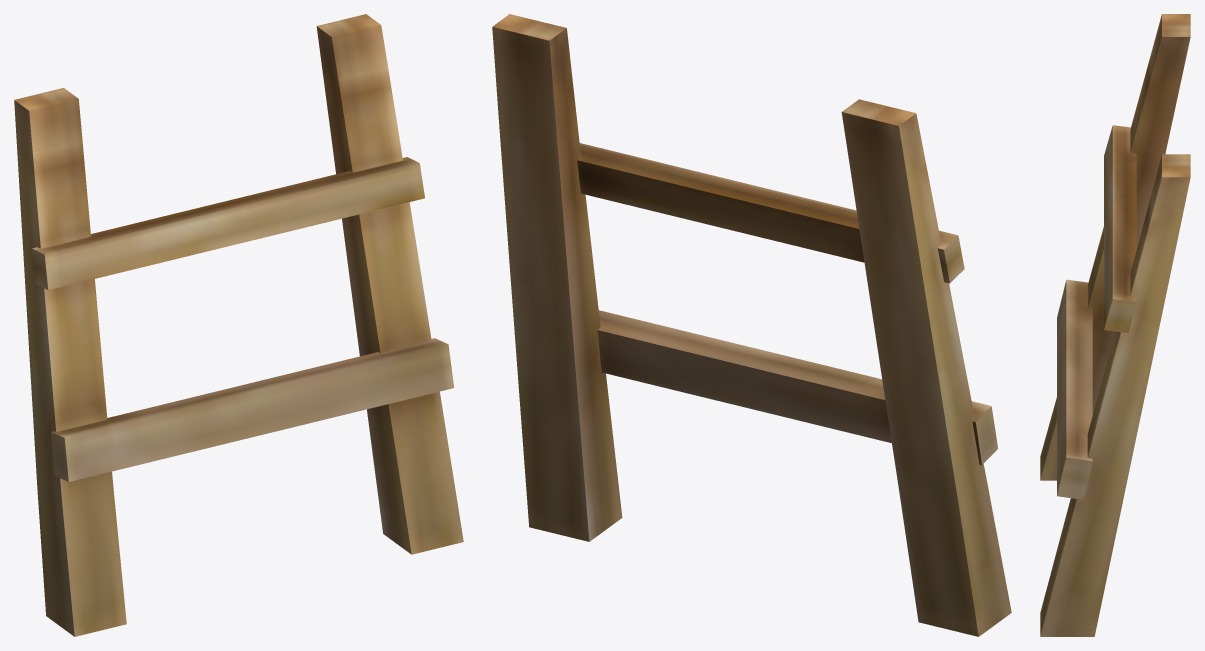
The model's file is B5Broke03.FBX.
3 views of the same model, side by side, from view 1: azimuth 30°, elevation 25°; view 2: azimuth 150°, elevation 25°; view 3: azimuth 270°, elevation 25° (orthographic). The views are drawn at different scales.
Visible parts, largest first — view 1: B5Broke03; view 2: B5Broke03; view 3: B5Broke03.
Part boxes in pixels (x1,y1,x2,y2): B5Broke03: (14, 14, 463, 636); B5Broke03: (492, 14, 1011, 636); B5Broke03: (1040, 14, 1190, 636).
Bounding box in the file's own units: 30.8 × 35.9 × 10.84.
